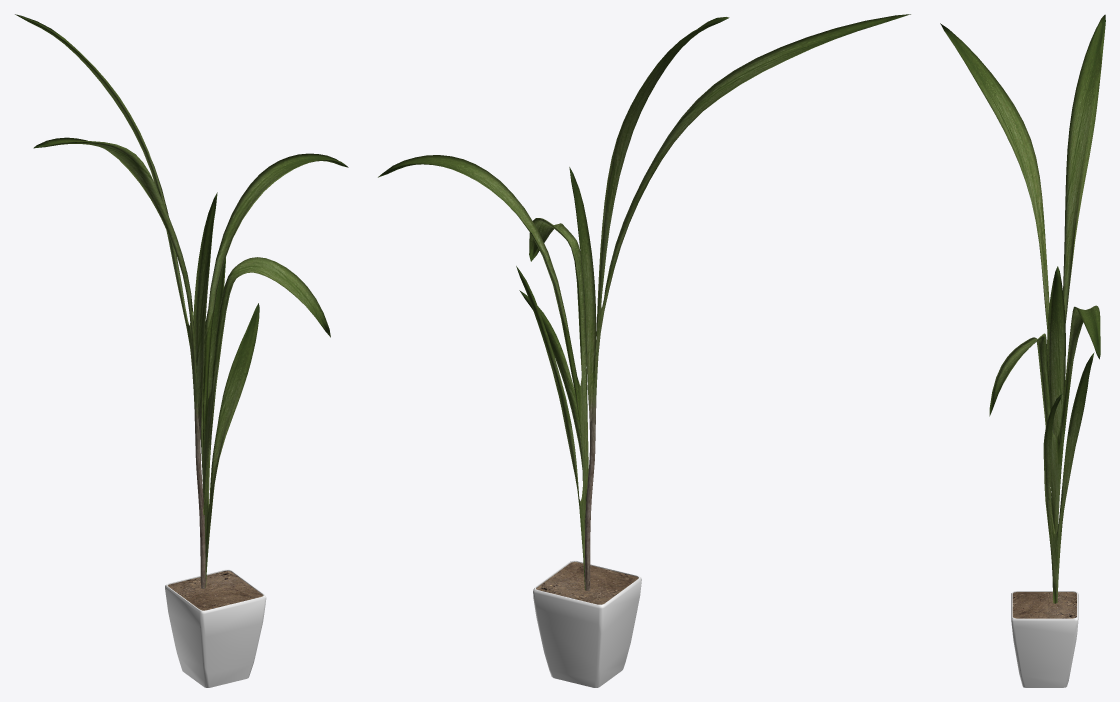
File: Plant 2.FBX
3 views of the same model, side by side, from view 1: azimuth 30°, elevation 25°; view 2: azimuth 150°, elevation 25°; view 3: azimuth 270°, elevation 25° (orthographic). The views are drawn at different scales.
Visible parts, largest first — view 1: Plant 2; view 2: Plant 2; view 3: Plant 2.
Boxes of the visible parts, left/top/right/bottom form: Plant 2: left=15, top=14, right=348, bottom=687; Plant 2: left=378, top=14, right=910, bottom=687; Plant 2: left=940, top=14, right=1105, bottom=687.
Size of the model in its own units: 109 by 173 by 43.81.
2 materials, 2 textured.
